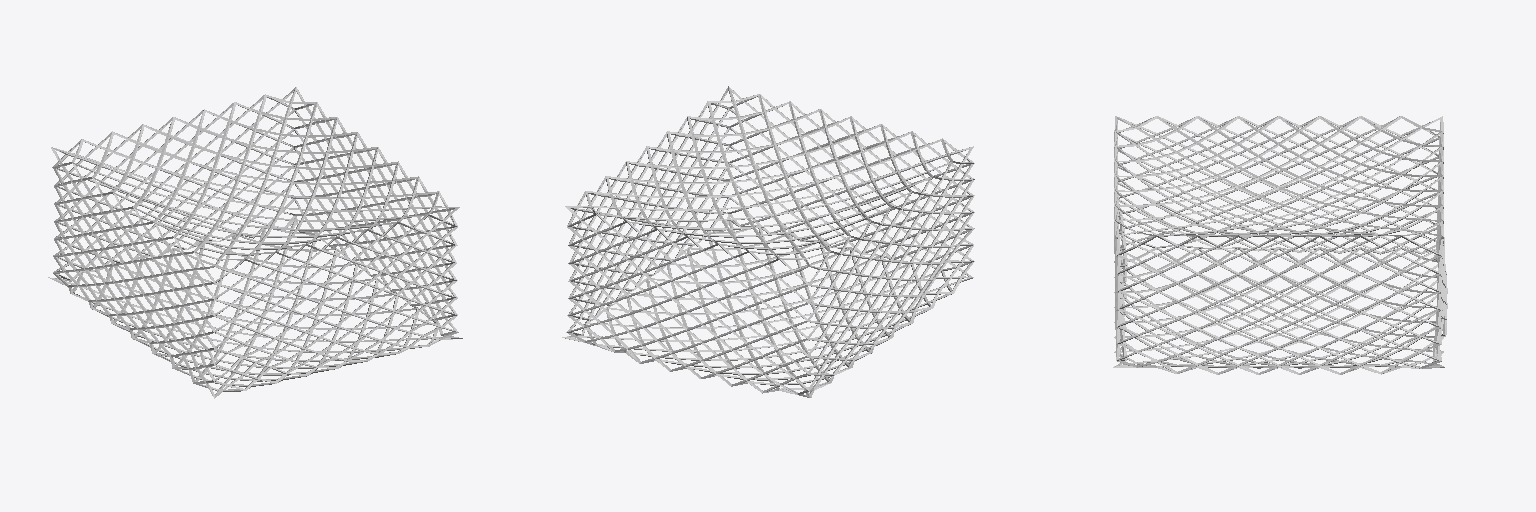
The model's file is trap_blender.obj.
3 views of the same model, side by side, from view 1: azimuth 30°, elevation 25°; view 2: azimuth 150°, elevation 25°; view 3: azimuth 270°, elevation 25° (orthographic).
Visible parts, largest first — view 1: Cube_Cube.001; view 2: Cube_Cube.001; view 3: Cube_Cube.001.
Boxes of the visible parts, x1,y1,x2,y2 form: Cube_Cube.001: [48, 87, 462, 398]; Cube_Cube.001: [562, 86, 974, 397]; Cube_Cube.001: [1113, 116, 1447, 374].
Bounding box in the file's own units: 4.03 × 2.44 × 4.64.